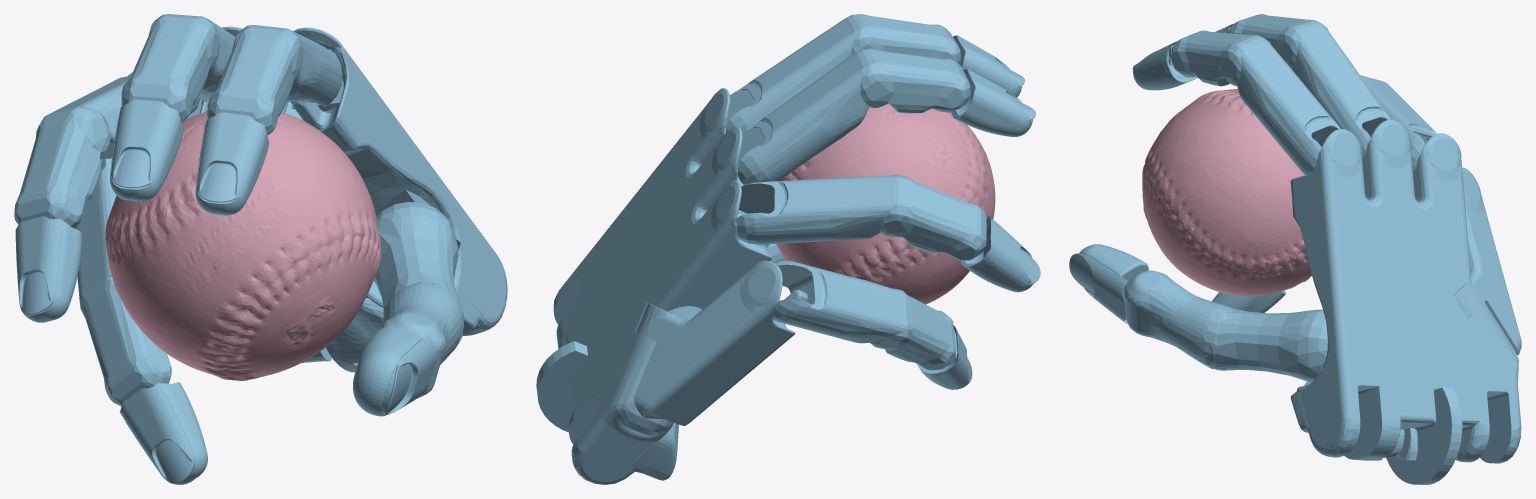
The picture shows the model from 3 angles, left to right: view 1: azimuth 30°, elevation 25°; view 2: azimuth 150°, elevation 25°; view 3: azimuth 270°, elevation 25°; orthographic projection. The views are drawn at different scales.
Visible parts, largest first — view 1: world, baseball.stl; view 2: world, baseball.stl; view 3: world, baseball.stl.
Part boxes in pixels (x1,y1,x2,y2): world: (14,14,507,484); baseball.stl: (105,112,381,380); world: (536,14,1040,484); baseball.stl: (776,103,995,304); world: (1069,14,1521,484); baseball.stl: (1142,88,1311,296).
Size of the model in its own units: 0.1637 by 0.1398 by 0.1566.
